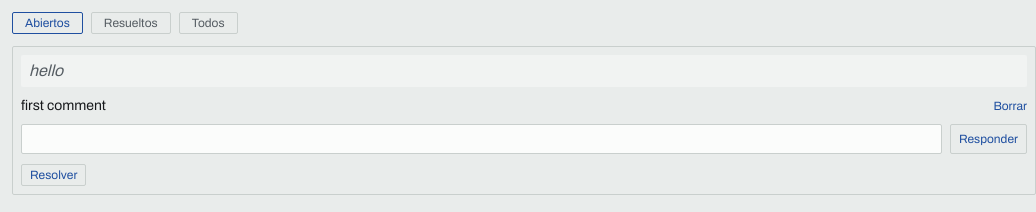
Test case: CommentsPanel › filtering to "resolved" hides an open thread
Expected: the button "hello" is shown, [21,55,1027,87]
What coordinates should you click on to do the following:
click the button "Resueltos"
I would click on:
 (131, 23)
Its box is [91,12,171,34].
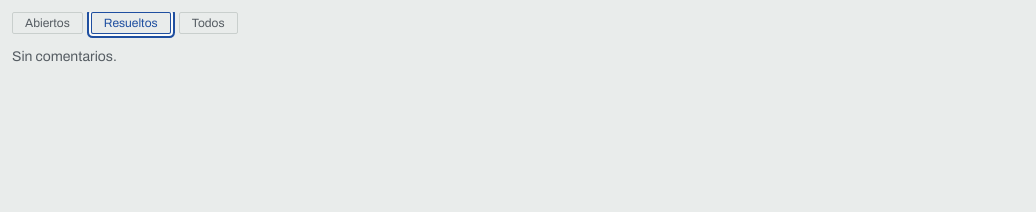
Now the button "hello" is gone
Now the list item "Sin comentarios." is shown, box [12,49,117,64]
